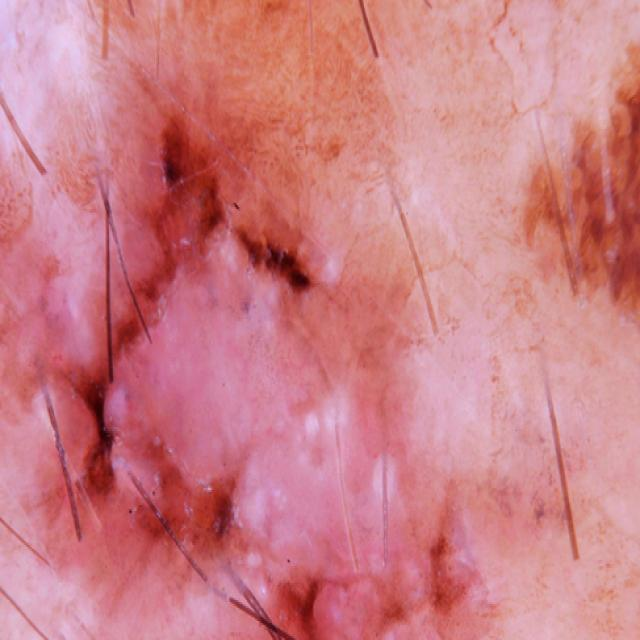Carcinoma: (14, 117, 351, 553), (515, 29, 640, 410), (219, 568, 497, 640)
